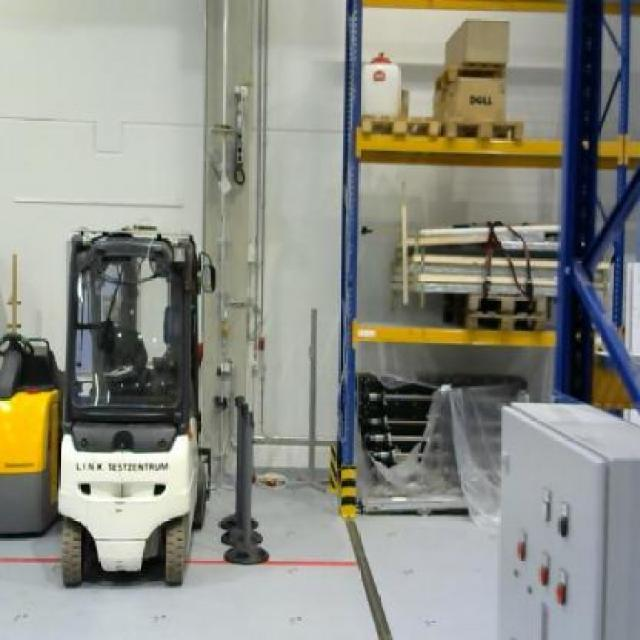box: (443, 16, 508, 70), (428, 78, 506, 120)
